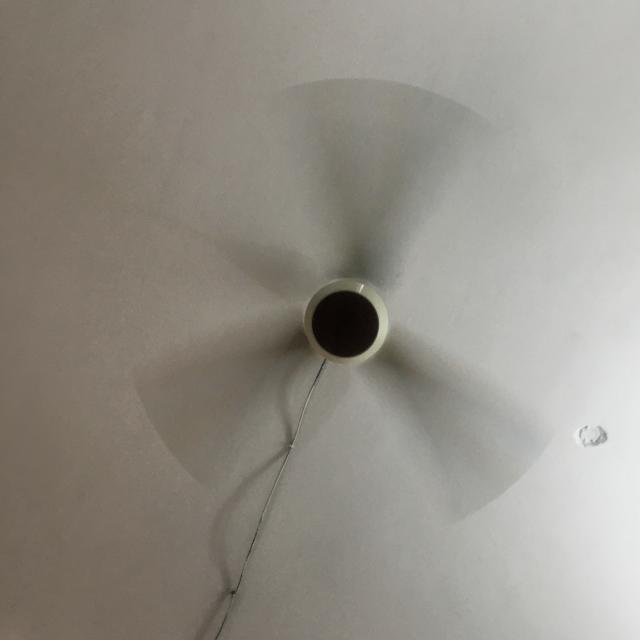on: (120, 73, 565, 532)
